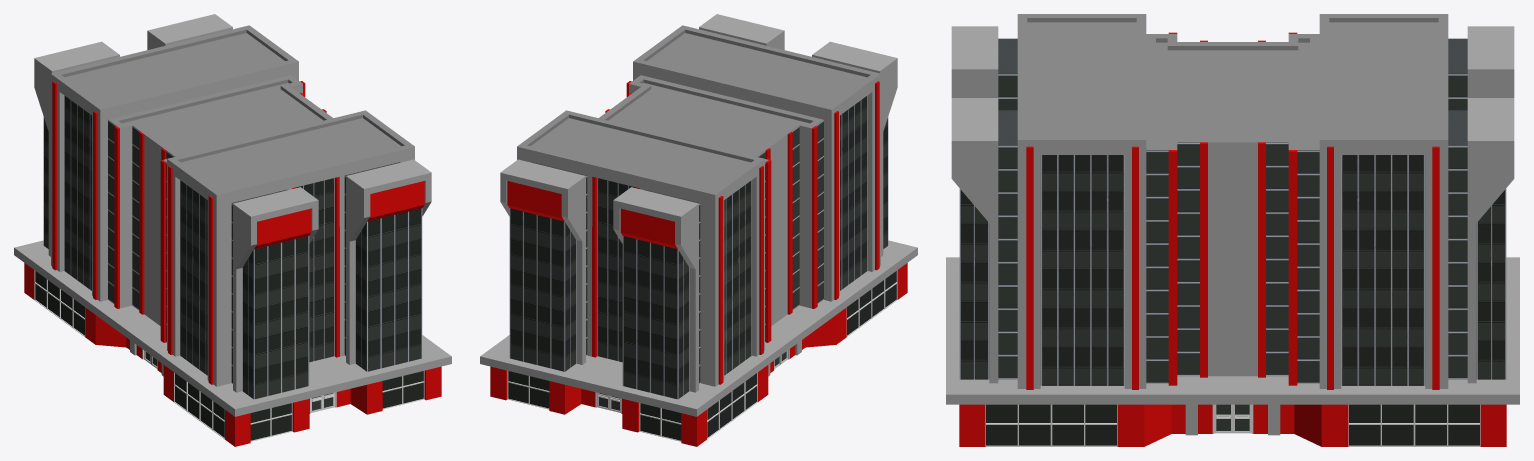
3 renders of one model, left to right at view 1: azimuth 30°, elevation 25°; view 2: azimuth 150°, elevation 25°; view 3: azimuth 270°, elevation 25°, orthographic. The views are drawn at different scales.
Parts seen in each view (by area): view 1: MB-02; view 2: MB-02; view 3: MB-02.
Boxes of the visible parts, bbox=[...] form: MB-02: bbox=[14, 14, 451, 446]; MB-02: bbox=[480, 14, 917, 446]; MB-02: bbox=[946, 14, 1519, 446].
Size of what is drawn, in the model's own units: 22.67 by 23.43 by 40.02.
